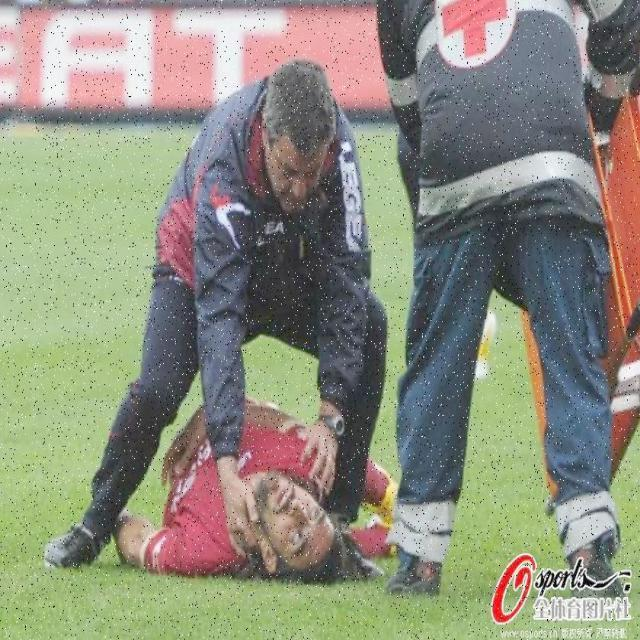fall: (138, 408, 394, 584)
